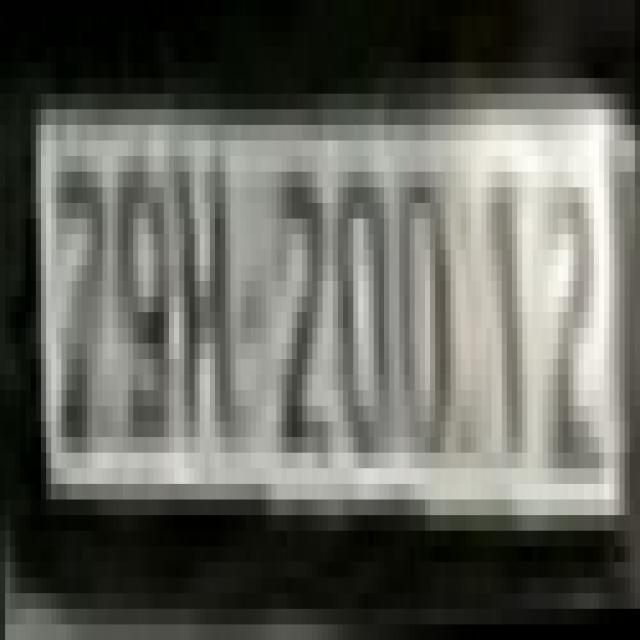0: (399, 156, 456, 468), (338, 156, 394, 468)
1: (482, 156, 532, 468)
2: (543, 172, 609, 484), (271, 156, 333, 468)
9: (118, 140, 169, 452)
H: (179, 156, 241, 453)
